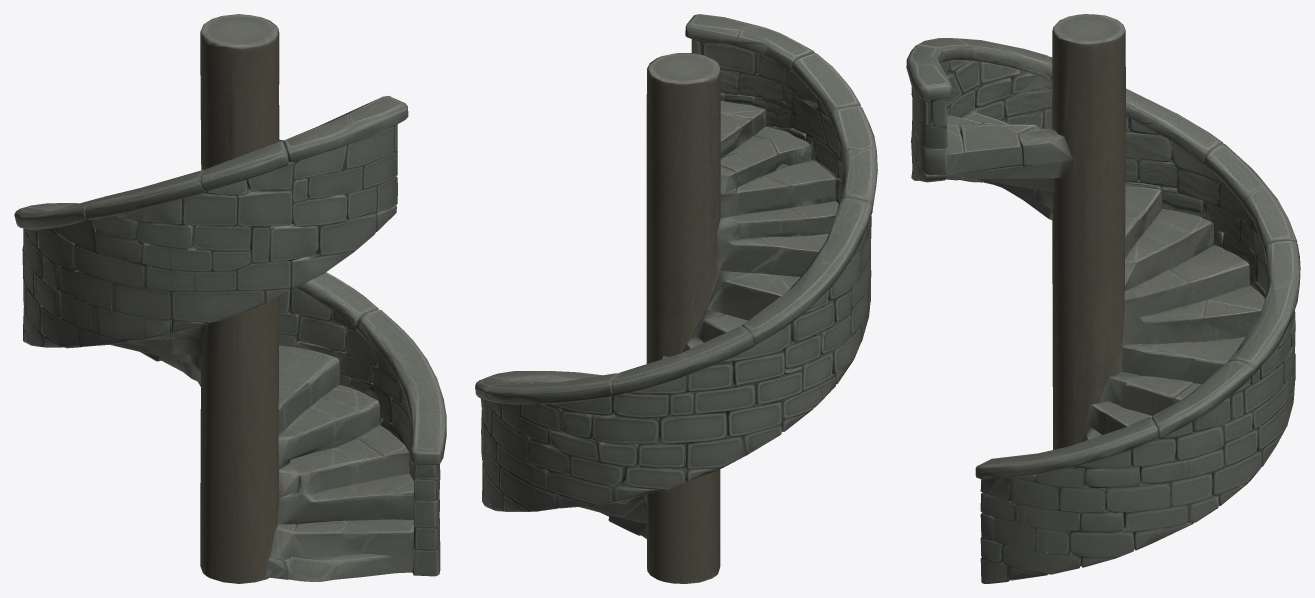
The model's file is obj_spiral_staircase.glb.
3 views of the same model, side by side, from view 1: azimuth 30°, elevation 25°; view 2: azimuth 150°, elevation 25°; view 3: azimuth 270°, elevation 25° (orthographic). The views are drawn at different scales.
Visible parts, largest first — view 1: Mesh_0; view 2: Mesh_0; view 3: Mesh_0.
Boxes of the visible parts, x1=… form: Mesh_0: x1=14, y1=14, x2=446, y2=583; Mesh_0: x1=475, y1=14, x2=877, y2=583; Mesh_0: x1=906, y1=14, x2=1300, y2=583.
Bounding box in the file's own units: 1.39 × 1.9 × 1.38.
Materials: 1 (1 with a texture image).
